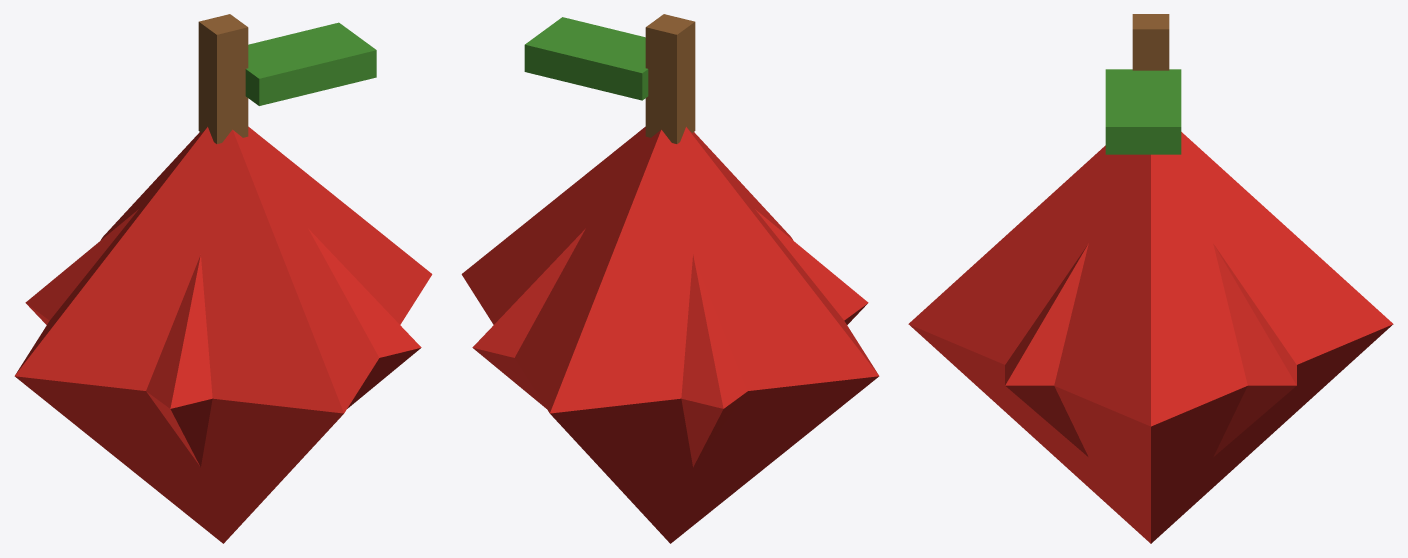
The model's file is pickup_apple.glb.
The picture shows the model from 3 angles, left to right: view 1: azimuth 30°, elevation 25°; view 2: azimuth 150°, elevation 25°; view 3: azimuth 270°, elevation 25°; orthographic projection.
Parts seen in each view (by area): view 1: pickup_apple; view 2: pickup_apple; view 3: pickup_apple.
Boxes of the visible parts, left/top/right/bottom form: pickup_apple: left=14, top=14, right=432, bottom=543; pickup_apple: left=461, top=14, right=879, bottom=543; pickup_apple: left=908, top=14, right=1393, bottom=543.
Bounding box in the file's own units: 0.32 × 0.38 × 0.32.
1 material, 1 textured.
